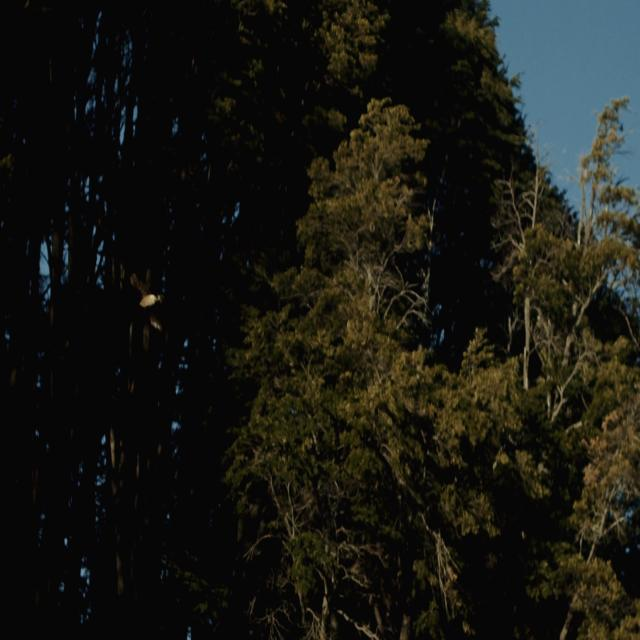bird: (110, 256, 190, 360)
